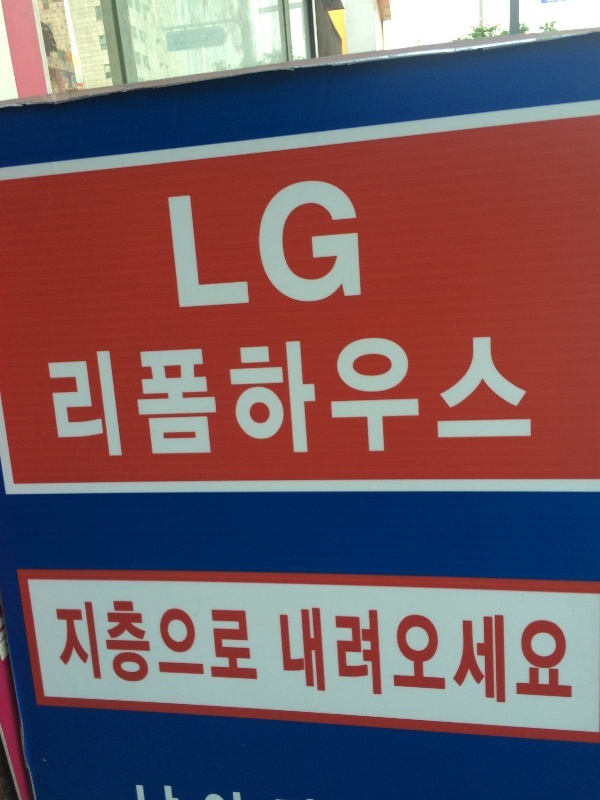text: (161, 162, 176, 336), (177, 162, 192, 336), (193, 162, 208, 336), (209, 162, 224, 336), (225, 162, 240, 336), (241, 162, 256, 336), (257, 162, 272, 336), (273, 162, 288, 336), (289, 162, 304, 336), (305, 162, 320, 336), (321, 162, 336, 336), (337, 162, 352, 336), (353, 162, 368, 336), (49, 315, 64, 466), (65, 315, 80, 466), (81, 315, 96, 466), (97, 315, 112, 466), (113, 315, 128, 466), (129, 315, 144, 466), (145, 315, 160, 466), (161, 315, 176, 466), (177, 315, 192, 466), (193, 315, 208, 466), (209, 315, 224, 466), (225, 315, 240, 466), (241, 315, 256, 466), (257, 315, 272, 466), (273, 315, 288, 466), (289, 315, 304, 466), (305, 315, 320, 466), (321, 315, 336, 466), (337, 315, 352, 466), (353, 315, 368, 466), (369, 315, 384, 466), (385, 315, 400, 466), (401, 315, 416, 466), (417, 315, 432, 466), (433, 315, 448, 466), (449, 315, 464, 466), (465, 315, 480, 466), (481, 315, 496, 466), (497, 315, 512, 466), (513, 315, 528, 466), (561, 597, 577, 703), (273, 597, 288, 703), (289, 597, 304, 703), (305, 597, 320, 703), (321, 597, 336, 703), (337, 597, 352, 703), (353, 597, 368, 703), (369, 597, 384, 703), (385, 597, 400, 703), (401, 597, 416, 703), (417, 597, 432, 703), (433, 597, 448, 703), (449, 597, 464, 703), (465, 597, 480, 703), (481, 597, 496, 703), (497, 597, 512, 703), (513, 597, 528, 703), (529, 597, 544, 703), (545, 597, 560, 703), (151, 162, 160, 336), (529, 315, 539, 466), (49, 589, 64, 689), (65, 589, 80, 689), (81, 589, 96, 689), (97, 589, 112, 689), (113, 589, 128, 689), (129, 589, 144, 689), (145, 589, 160, 689), (161, 589, 176, 689), (177, 589, 192, 689), (193, 589, 208, 689), (209, 589, 224, 689), (225, 589, 240, 689), (241, 589, 256, 689), (41, 315, 48, 466), (369, 162, 374, 336), (257, 589, 261, 689), (46, 589, 48, 689), (271, 597, 272, 703)
